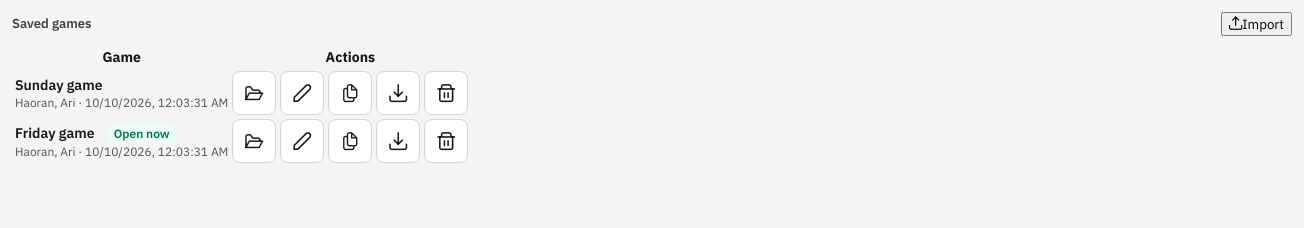
Test case: SavesList › duplicates a game
The image size is (1304, 228).
Click the button named "Duplicate g2". click: coordinates (350, 93)
box: [328,71,372,115]
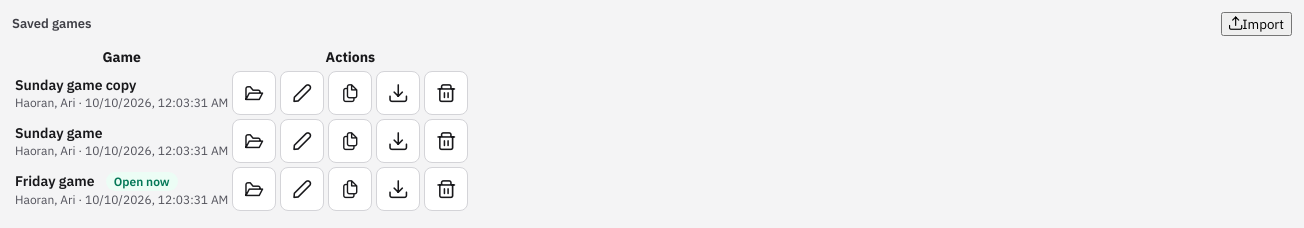
Expected: the text "Sunday game copy" is shown, [15,76,136,94]
